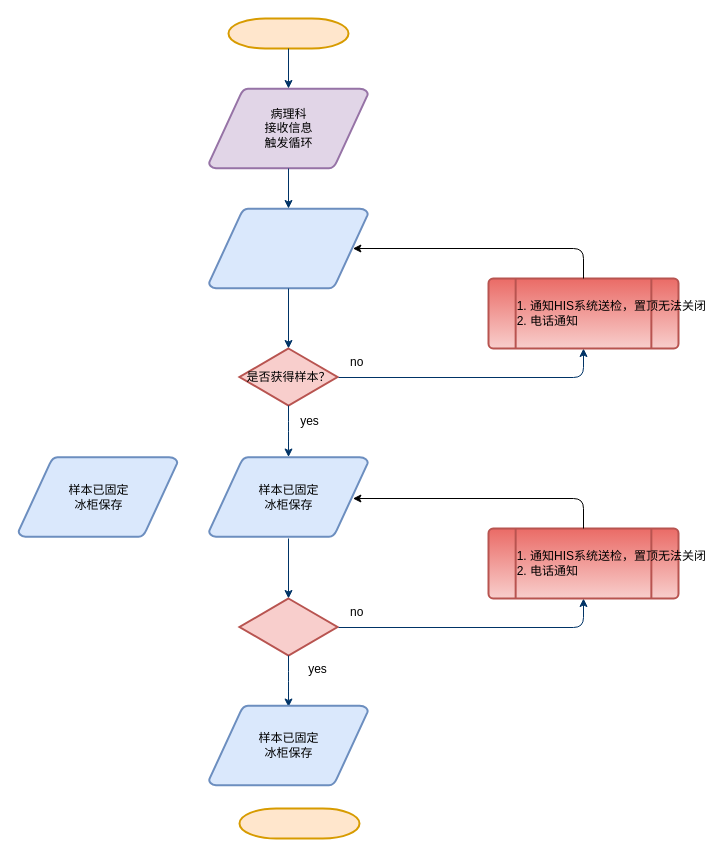
Some shapes in this 723 by 856 pixel diagram are drawn without their labels. The shapes that lost their labels are listed below. From the top down, each one's box as (x1, y1, x2, y2) in pixels, then its label:
(227, 17, 349, 49): 手术医生 申请常规病理
(208, 207, 368, 289): 30分钟自动抓取 相应样本是否送检
(238, 597, 338, 656): 样本是否运送
(238, 807, 360, 839): end
